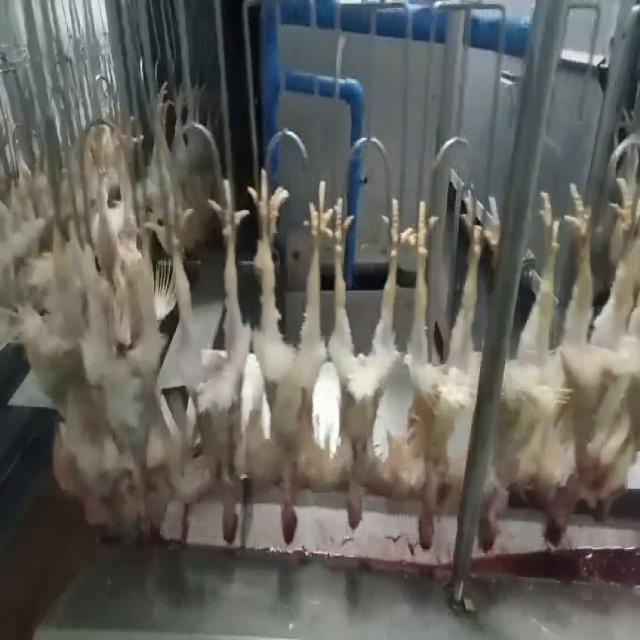chicken: (543, 174, 639, 549), (390, 182, 486, 554), (474, 186, 568, 560), (160, 168, 247, 547), (314, 186, 408, 530), (250, 171, 336, 542), (94, 195, 161, 540)
